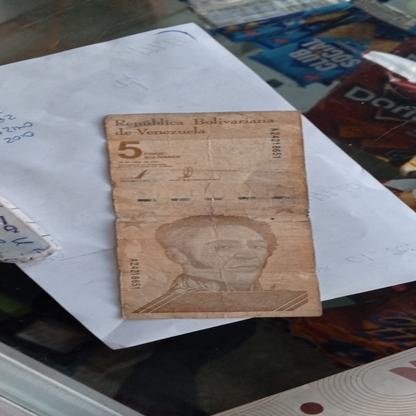five-front-vef: (104, 110, 321, 319)
